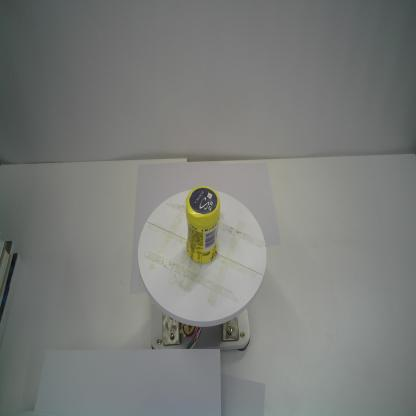Gum: (185, 185, 221, 264)
